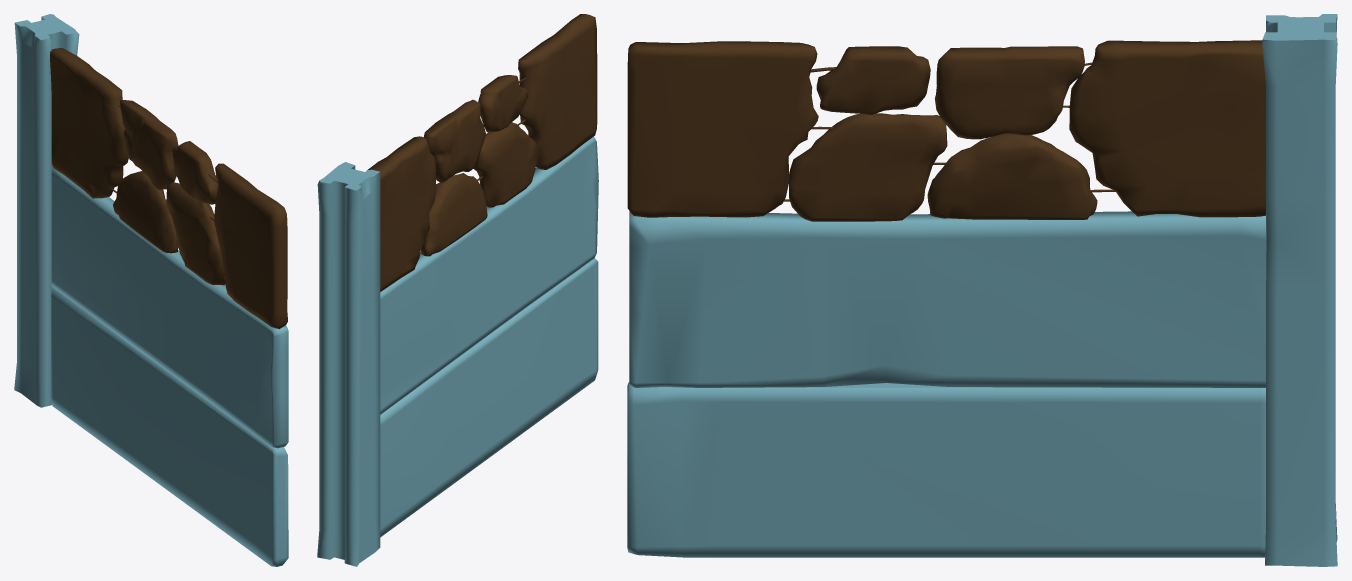
The model's file is Fence_Concrete_c.FBX.
The picture shows the model from 3 angles, left to right: view 1: azimuth 30°, elevation 25°; view 2: azimuth 150°, elevation 25°; view 3: azimuth 270°, elevation 25°; orthographic projection. The views are drawn at different scales.
Visible parts, largest first — view 1: Fence_Concrete_c_LOD0; view 2: Fence_Concrete_c_LOD0; view 3: Fence_Concrete_c_LOD0.
Part boxes in pixels (x1=…): Fence_Concrete_c_LOD0: x1=14, y1=14, x2=288, y2=566; Fence_Concrete_c_LOD0: x1=317, y1=14, x2=598, y2=566; Fence_Concrete_c_LOD0: x1=627, y1=14, x2=1337, y2=566.
Size of what is drawn, in the model's own units: 28.26 by 251 by 306.
